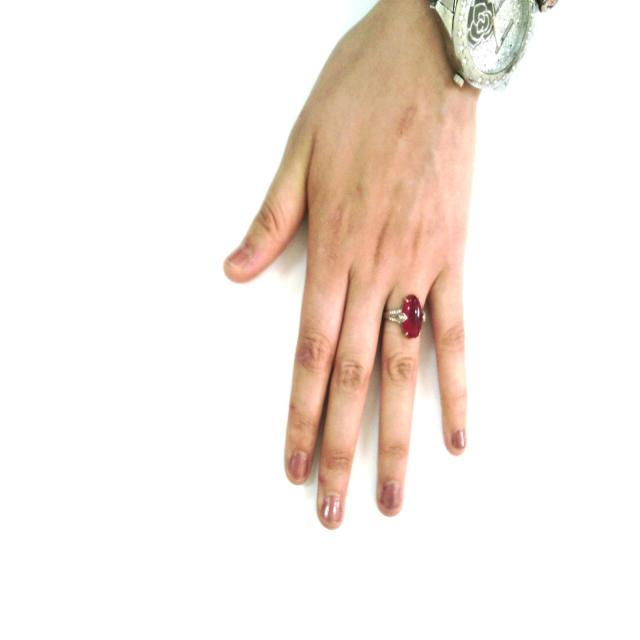Fingernail: (323, 496, 341, 525), (291, 452, 307, 481), (227, 245, 249, 266), (382, 484, 399, 508), (453, 431, 465, 449)
